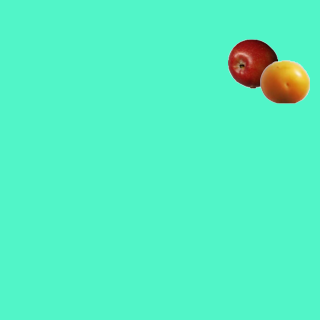Apple Braeburn: (227, 38, 277, 88)
Cherry Wax Yellow: (259, 56, 309, 106)
